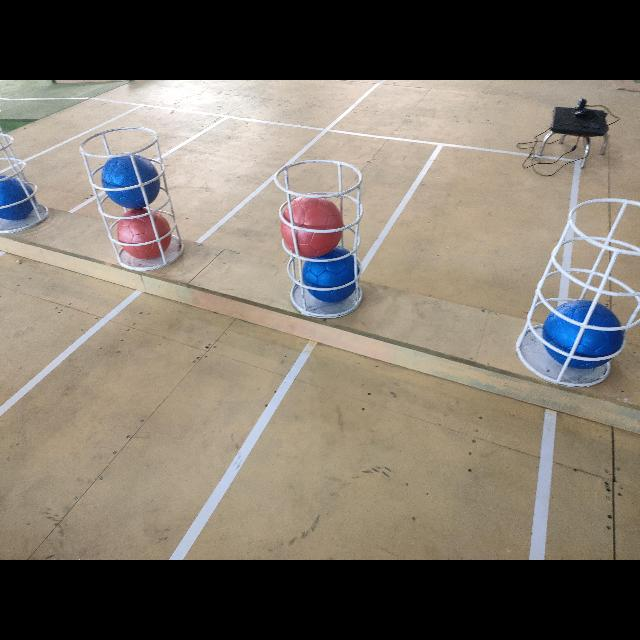B: (542, 300, 622, 368), (101, 155, 162, 209), (304, 258, 358, 304), (0, 176, 36, 220)
R: (280, 197, 344, 255), (116, 212, 170, 260)
